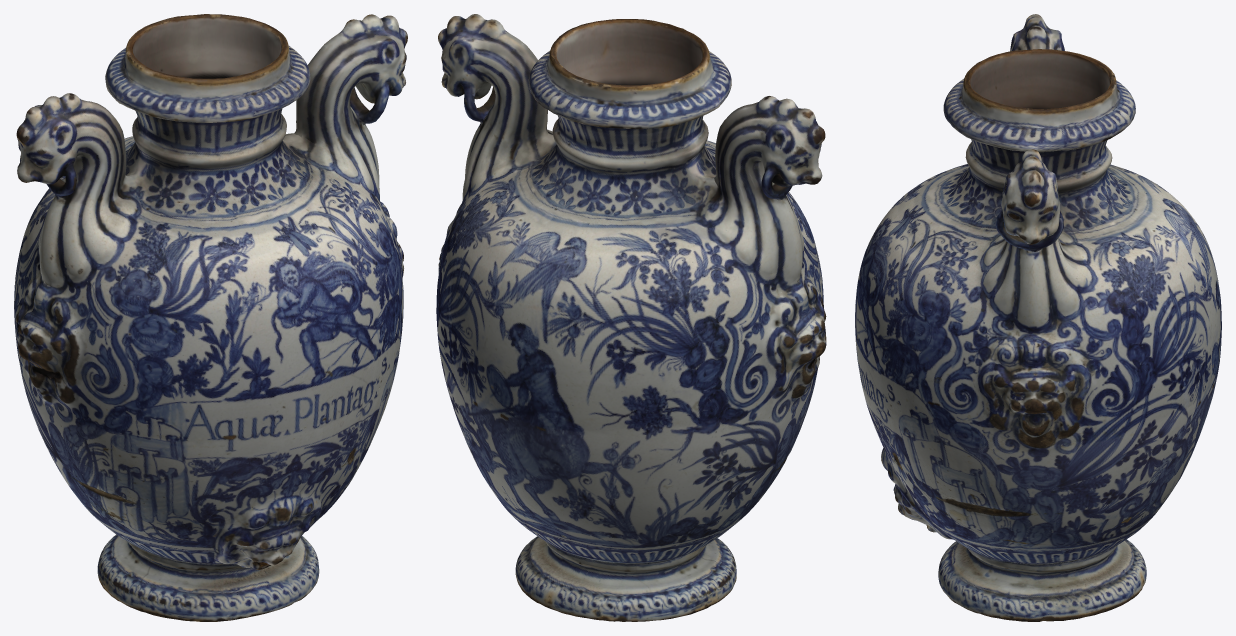
The model's file is vase-03.glb.
3 renders of one model, left to right at view 1: azimuth 30°, elevation 25°; view 2: azimuth 150°, elevation 25°; view 3: azimuth 270°, elevation 25°, orthographic. The views are drawn at different scales.
Parts seen in each view (by area): view 1: Object_9, Object_8, Object_5, Object_7, Object_6, Object_4, Object_3; view 2: Object_9, Object_8, Object_6, Object_5, Object_4, Object_7, Object_3; view 3: Object_9, Object_6, Object_5, Object_4, Object_8, Object_7, Object_3.
Part boxes in pixels (x1=…): Object_9: x1=14, y1=14, x2=407, y2=617; Object_8: x1=17, y1=14, x2=407, y2=619; Object_5: x1=16, y1=15, x2=406, y2=621; Object_7: x1=16, y1=15, x2=406, y2=620; Object_6: x1=16, y1=14, x2=407, y2=621; Object_4: x1=16, y1=14, x2=404, y2=621; Object_3: x1=16, y1=14, x2=405, y2=621; Object_9: x1=436, y1=15, x2=823, y2=617; Object_8: x1=440, y1=14, x2=825, y2=616; Object_6: x1=438, y1=14, x2=825, y2=621; Object_5: x1=438, y1=16, x2=826, y2=621; Object_4: x1=438, y1=14, x2=825, y2=621; Object_7: x1=438, y1=14, x2=825, y2=621; Object_3: x1=441, y1=15, x2=826, y2=618; Object_9: x1=855, y1=14, x2=1221, y2=621; Object_6: x1=884, y1=14, x2=1146, y2=621; Object_5: x1=885, y1=14, x2=1145, y2=621; Object_4: x1=886, y1=14, x2=1135, y2=621; Object_8: x1=883, y1=15, x2=1144, y2=620; Object_7: x1=893, y1=16, x2=1144, y2=621; Object_3: x1=887, y1=17, x2=1119, y2=621.
Size of the model in its own units: 327 by 429 by 284.
1 material, 1 textured.
